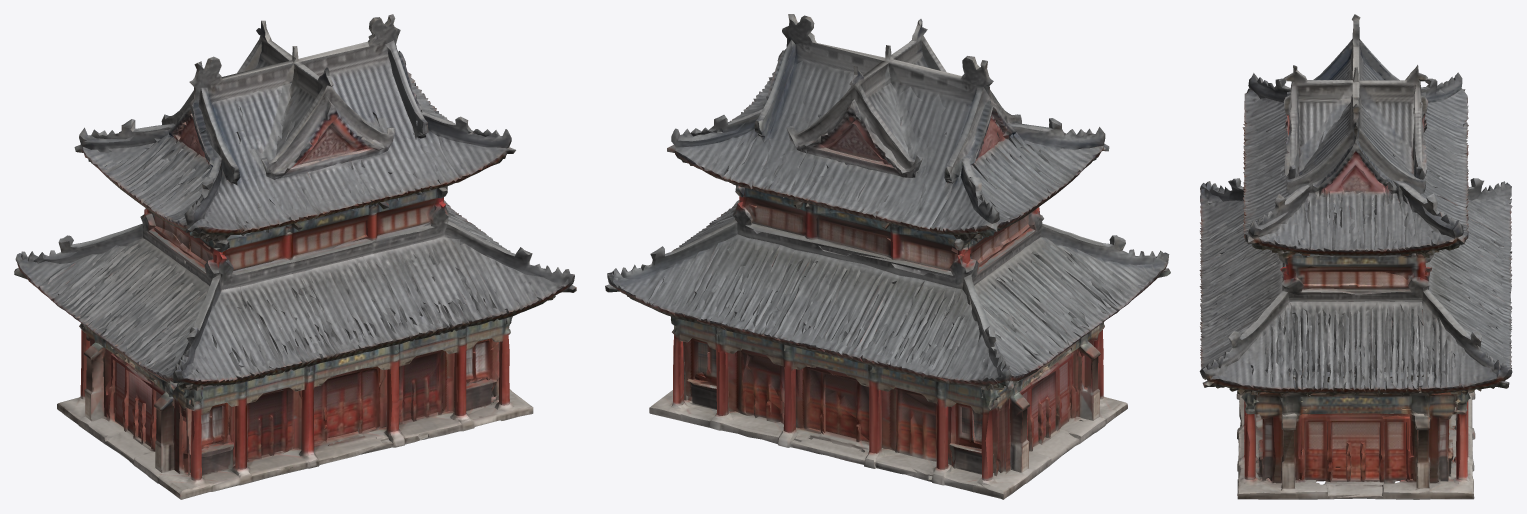
The model's file is temple-hall_textured.glb.
3 views of the same model, side by side, from view 1: azimuth 30°, elevation 25°; view 2: azimuth 150°, elevation 25°; view 3: azimuth 270°, elevation 25° (orthographic). The views are drawn at different scales.
Parts seen in each view (by area): view 1: geometry_0; view 2: geometry_0; view 3: geometry_0.
Boxes of the visible parts, x1,y1,x2,y2 form: geometry_0: (14,14,576,499); geometry_0: (605,14,1170,499); geometry_0: (1199,14,1512,499).
Bounding box in the file's own units: 18 × 15.82 × 12.56.
1 material, 1 textured.
